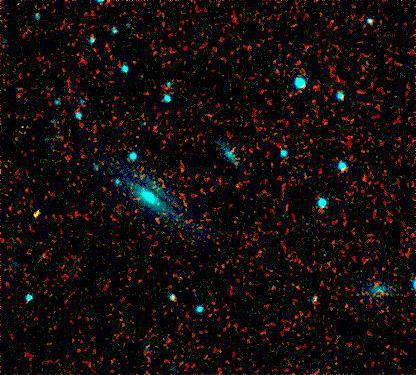star: (24, 196, 54, 226)
